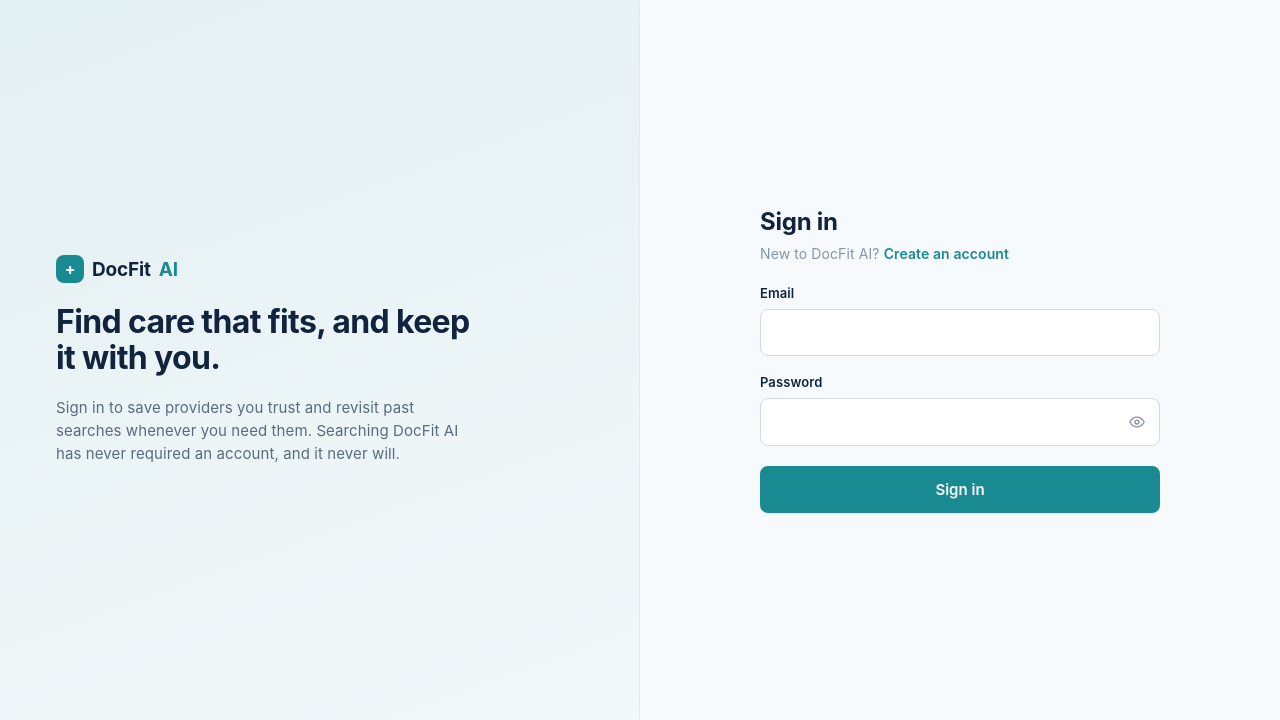
Test: SignInPage › shows the server error message on failed sign-in
This screenshot has width=1280, height=720.
Type "jane@example.com" into the field labelled "Email". click: point(960, 333)
box: 760,309 -> 1160,356
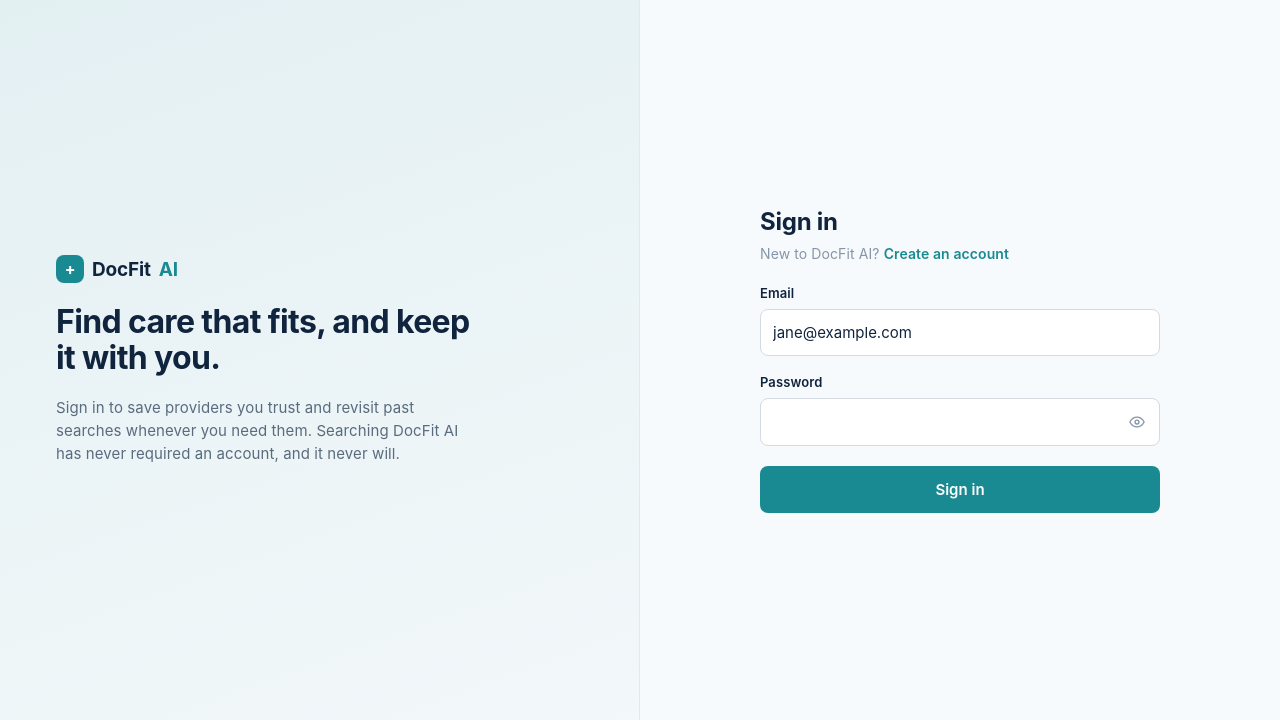
Type "wrongpassword" into the password field labelled "Password". click: point(960, 422)
box: 760,398 -> 1160,446
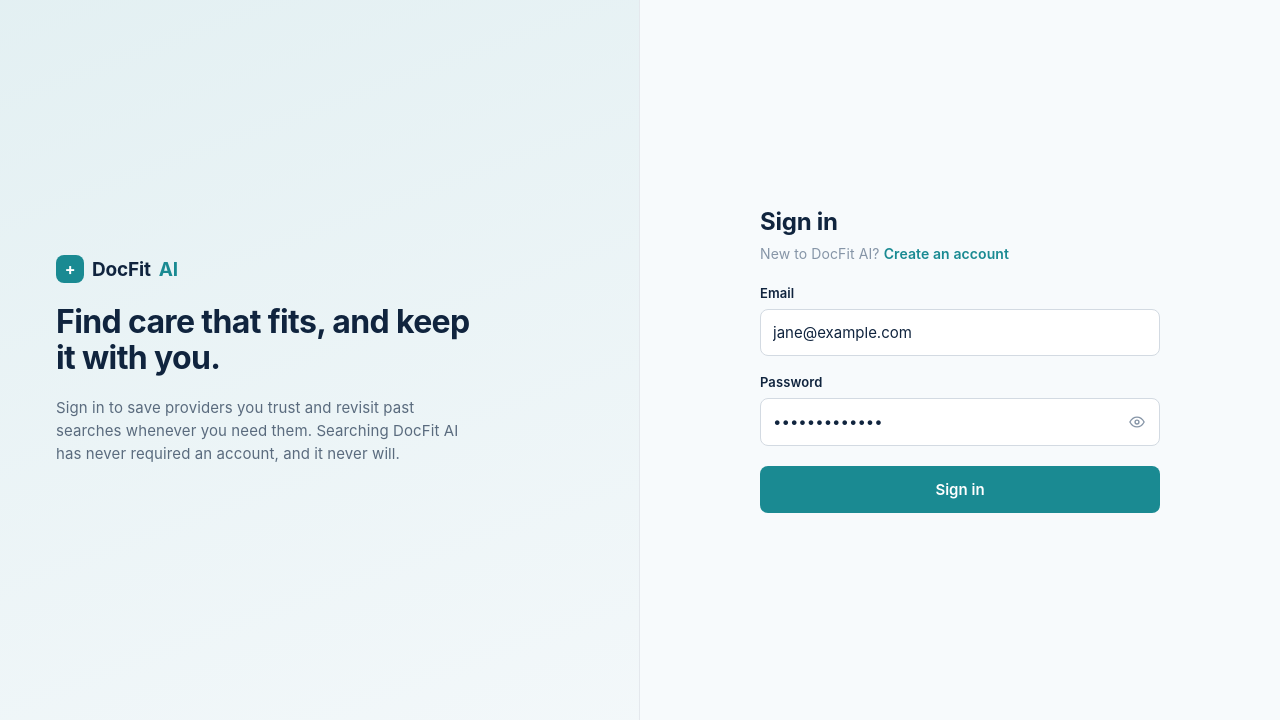
Click the button "Sign in". click: point(960, 489)
box: 760,466 -> 1160,513
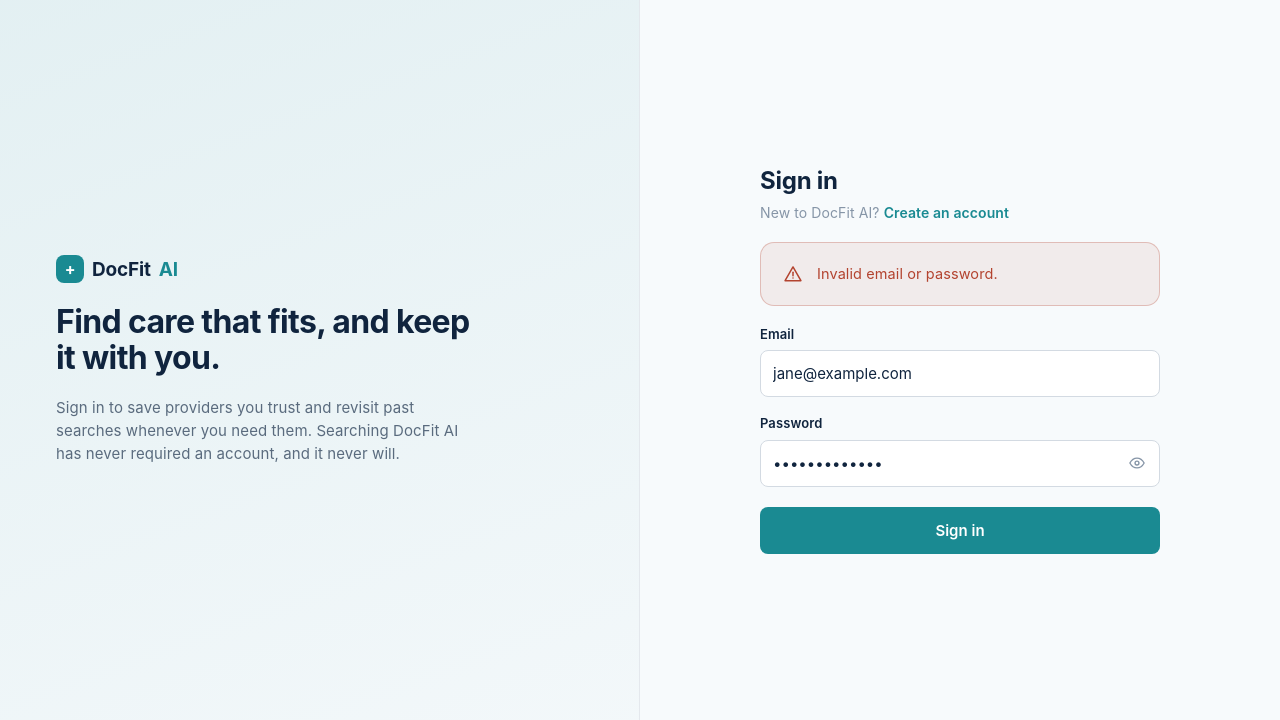
Now the text "Invalid email or password." is shown, box 817,263 -> 998,285
